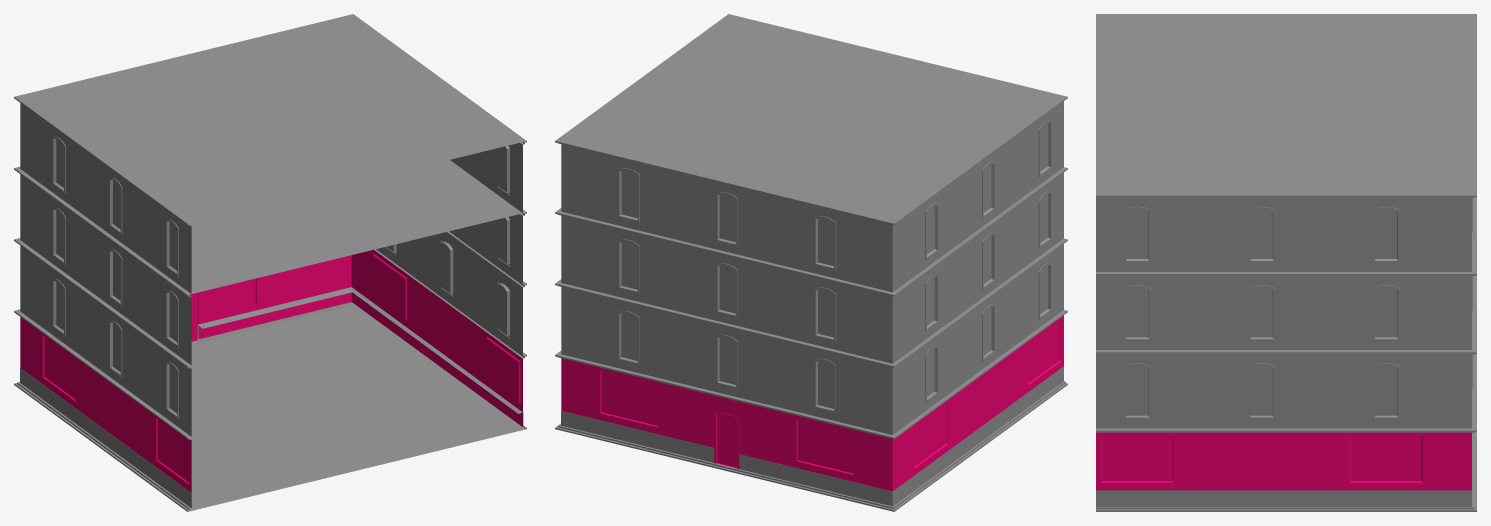
Rendered from Home_2.FBX.
The picture shows the model from 3 angles, left to right: view 1: azimuth 30°, elevation 25°; view 2: azimuth 150°, elevation 25°; view 3: azimuth 270°, elevation 25°; orthographic projection. The views are drawn at different scales.
Visible parts, largest first — view 1: home_1; view 2: home_1; view 3: home_1.
Part boxes in pixels (<box>): home_1: <box>14,14,526,511</box>; home_1: <box>555,14,1067,511</box>; home_1: <box>1096,14,1476,511</box>.
Size of the model in its own units: 13.17 by 10.69 by 11.67.
